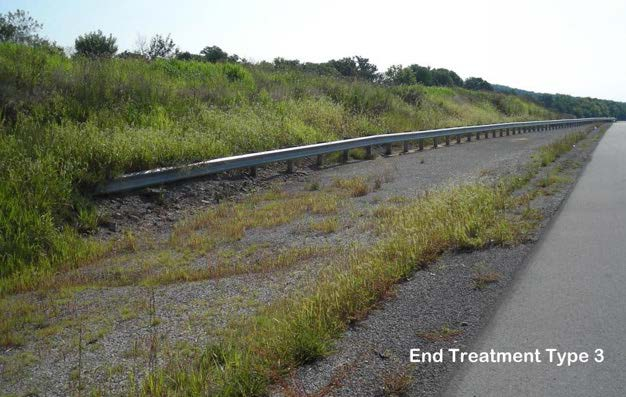not_damaged: (78, 117, 434, 202), (442, 119, 618, 138)
